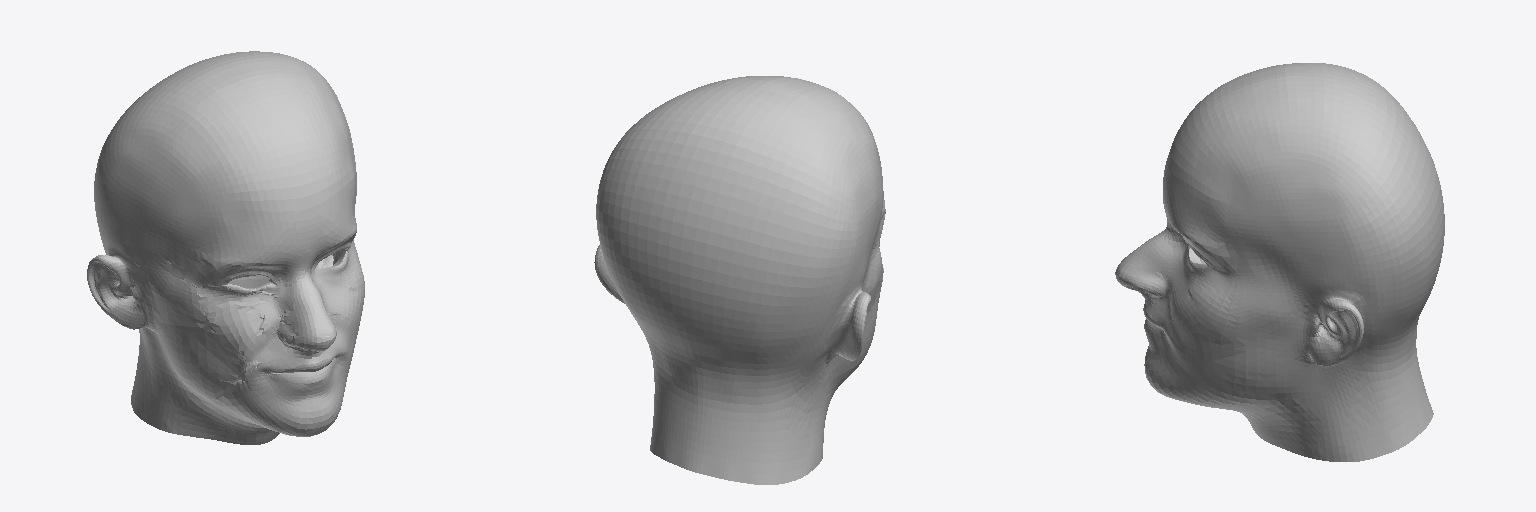
Rendered from ret_meshDeform.obj.
The picture shows the model from 3 angles: view 1: azimuth 30°, elevation 25°; view 2: azimuth 150°, elevation 25°; view 3: azimuth 270°, elevation 25°; orthographic projection.
Bounding box in the file's own units: 1.64 × 2.11 × 1.77.